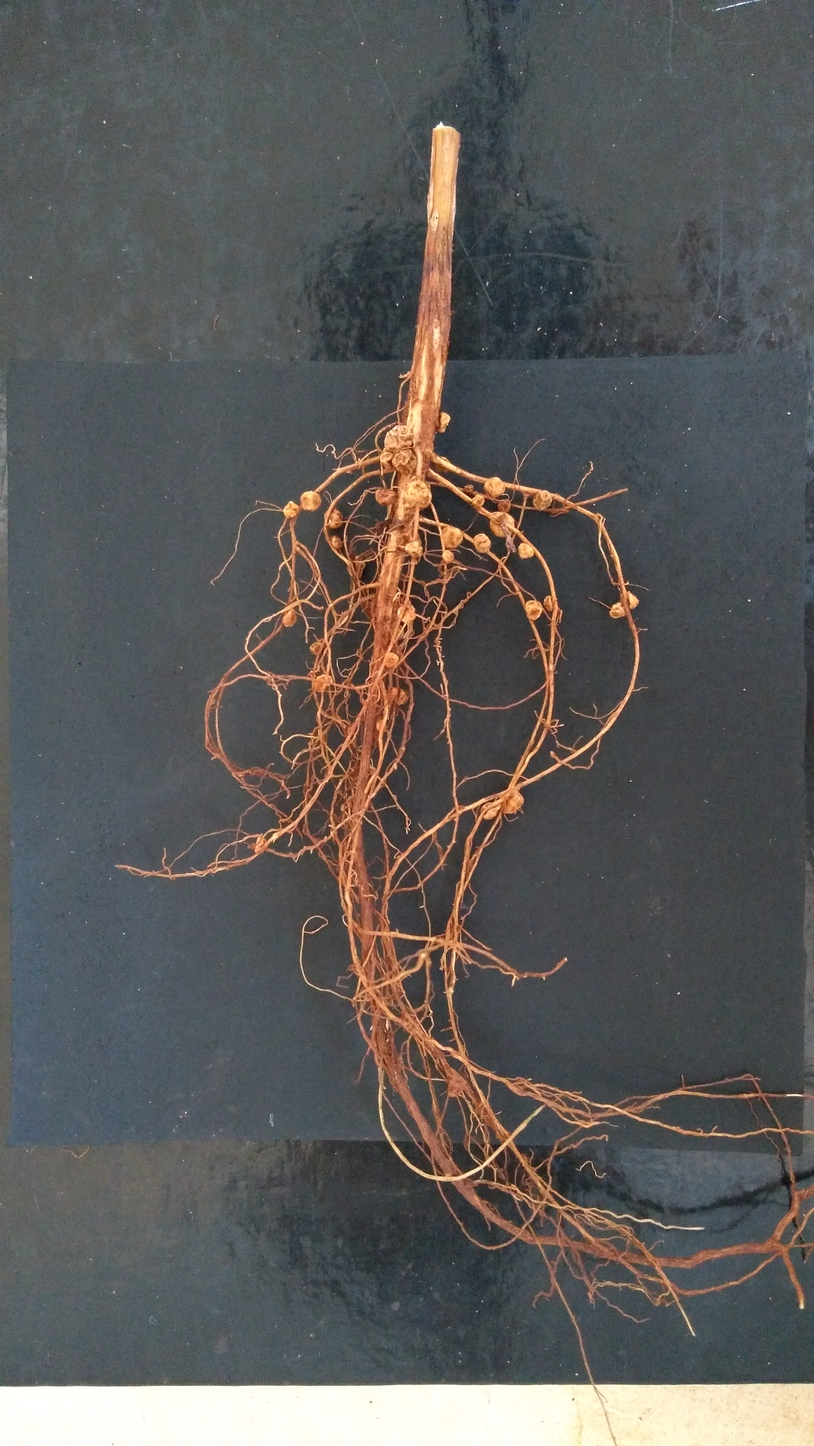nodule: (380, 425, 418, 477), (610, 591, 639, 619), (405, 480, 432, 509), (391, 525, 422, 548), (488, 512, 515, 538), (503, 789, 524, 814), (448, 1068, 466, 1097), (441, 526, 463, 548), (483, 477, 505, 498), (375, 489, 399, 507), (301, 491, 322, 511), (532, 490, 552, 511), (347, 556, 365, 578), (390, 686, 409, 706), (397, 602, 416, 622), (324, 509, 343, 529), (314, 674, 333, 693), (481, 801, 501, 819), (473, 533, 491, 553), (525, 600, 542, 620), (405, 541, 422, 558), (282, 608, 297, 627), (518, 543, 534, 559), (384, 652, 399, 669), (283, 501, 298, 518), (438, 412, 450, 433), (374, 519, 387, 537), (254, 835, 266, 853), (309, 641, 324, 655), (391, 625, 404, 641), (543, 595, 556, 611), (376, 717, 389, 732), (498, 499, 511, 513), (330, 535, 343, 548), (472, 494, 485, 507), (442, 549, 454, 563), (464, 484, 473, 492), (340, 801, 347, 811)
